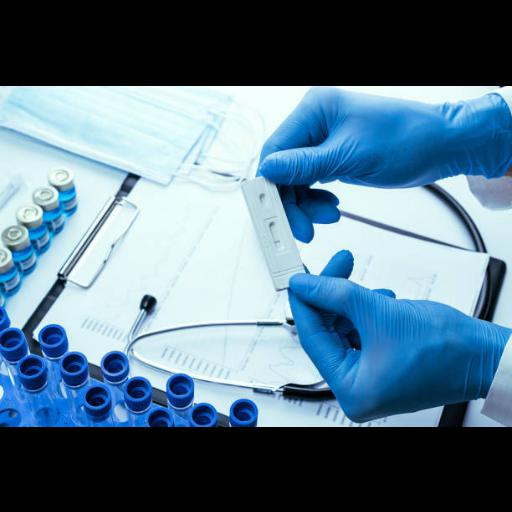Neg: (242, 173, 309, 286)
